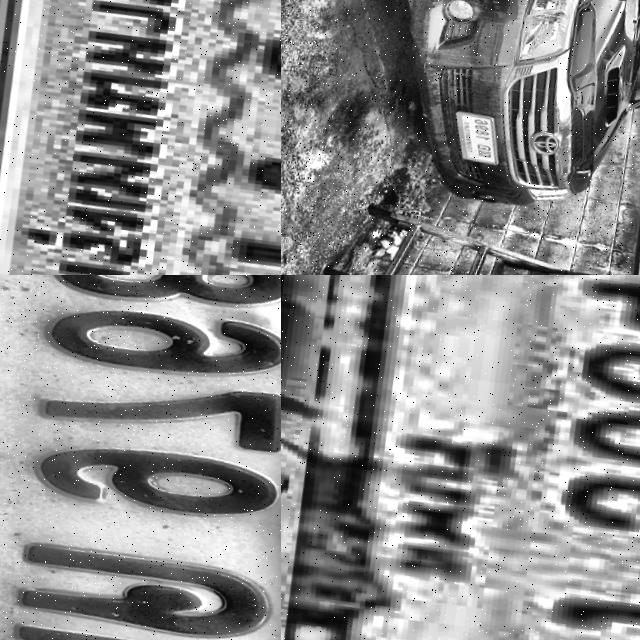license-plate: (281, 275, 640, 640), (0, 275, 281, 640), (0, 0, 281, 275), (439, 108, 503, 172)
